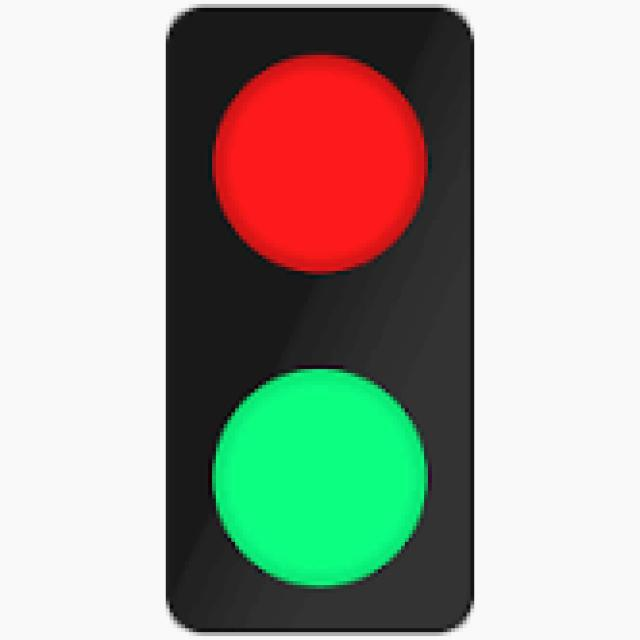suv: (162, 4, 474, 632)
